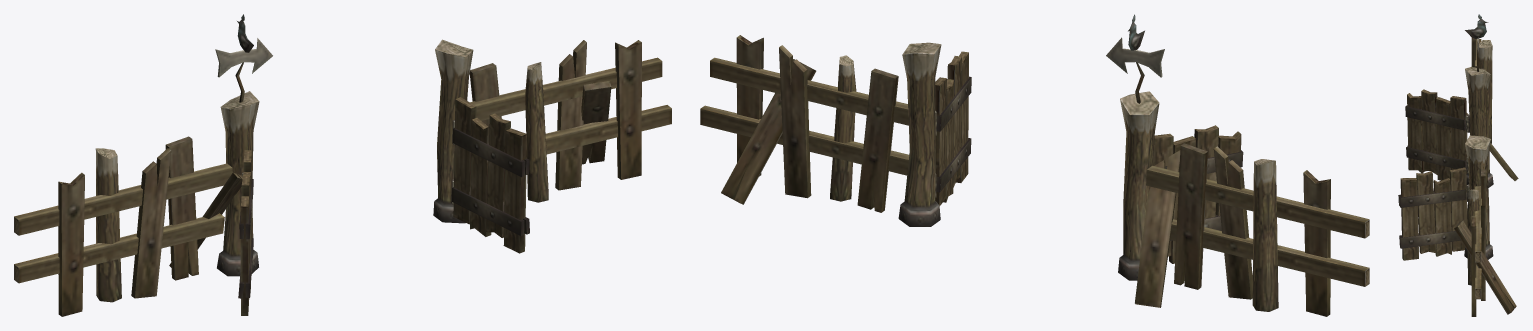
The model's file is DN_lv2_hczl01.FBX.
The picture shows the model from 3 angles, left to right: view 1: azimuth 30°, elevation 25°; view 2: azimuth 150°, elevation 25°; view 3: azimuth 270°, elevation 25°; orthographic projection. The views are drawn at different scales.
Parts seen in each view (by area): view 1: DN_lv2_hczl01; view 2: DN_lv2_hczl01; view 3: DN_lv2_hczl01.
Part boxes in pixels (x1,y1,x2,y2): DN_lv2_hczl01: [14, 14, 671, 316]; DN_lv2_hczl01: [700, 14, 1369, 316]; DN_lv2_hczl01: [1398, 14, 1518, 316].
Size of the model in its own units: 1306 by 499 by 305.
